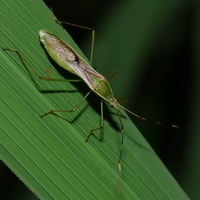insect: (1, 50, 120, 199), (120, 114, 185, 199), (2, 28, 62, 76)
